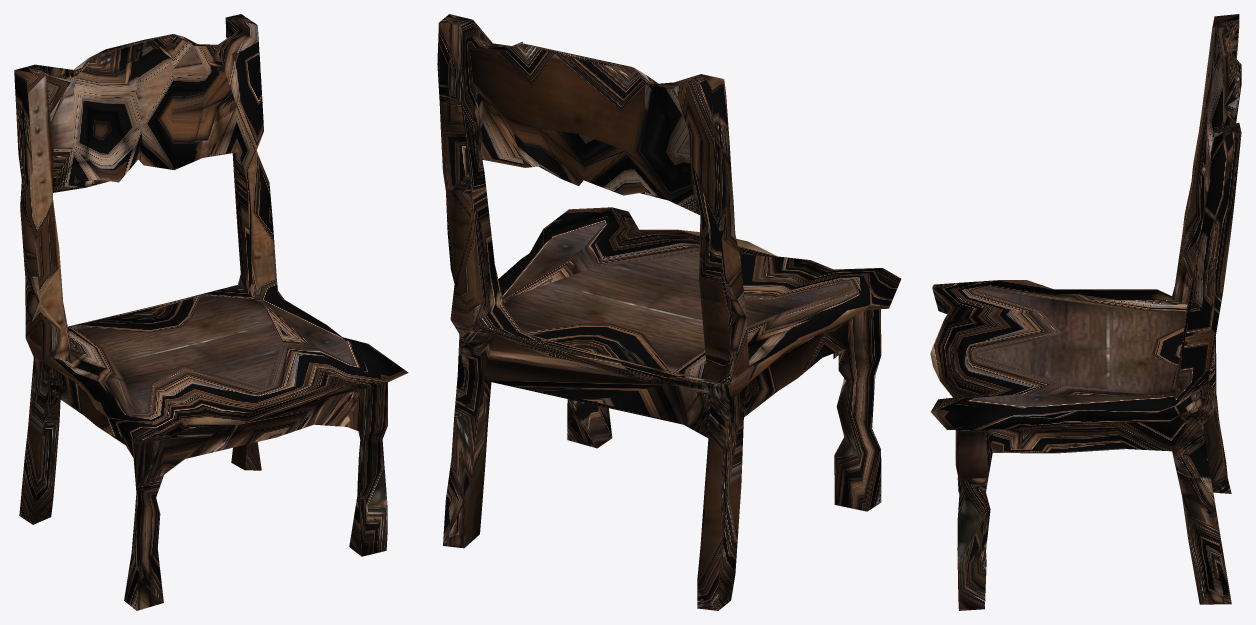
File: meshy_chair_simple_a_lod1.glb
The picture shows the model from 3 angles, left to right: view 1: azimuth 30°, elevation 25°; view 2: azimuth 150°, elevation 25°; view 3: azimuth 270°, elevation 25°; orthographic projection. The views are drawn at different scales.
Bounding box in the file's own units: 0.6632 × 0.9986 × 0.5956.
1 material, 1 textured.
